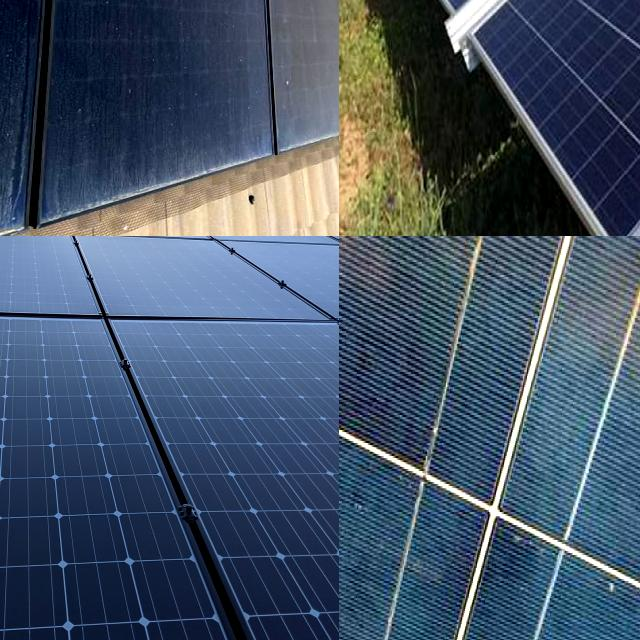crack: (480, 0, 640, 173), (99, 315, 339, 429), (157, 383, 339, 508), (204, 457, 339, 621), (72, 236, 298, 332), (0, 236, 140, 343), (46, 550, 154, 632), (122, 547, 220, 631), (48, 507, 142, 580), (0, 557, 81, 640), (0, 509, 77, 574), (106, 506, 192, 564), (0, 564, 63, 640), (0, 476, 79, 528), (0, 513, 60, 575), (0, 518, 58, 576), (0, 568, 40, 640), (0, 475, 49, 533), (0, 465, 37, 537), (0, 441, 42, 495), (0, 443, 40, 487)
dust: (0, 1, 200, 77), (0, 0, 222, 46), (204, 19, 339, 75), (142, 0, 319, 35)
shadow: (339, 236, 387, 434)
